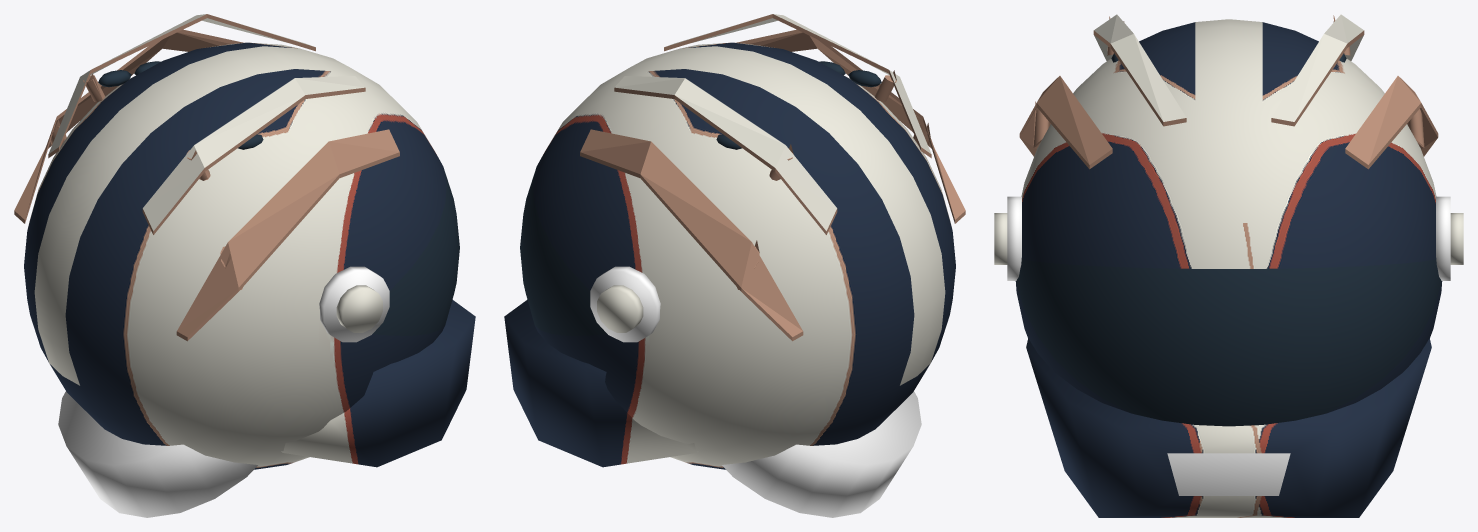
File: Helmet_25_SSR_赤銅・濃紺.glb
3 renders of one model, left to right at view 1: azimuth 30°, elevation 25°; view 2: azimuth 150°, elevation 25°; view 3: azimuth 270°, elevation 25°, orthographic. The views are drawn at different scales.
Parts seen in each view (by area): view 1: Helmet_25_SSR, Visor; view 2: Helmet_25_SSR, Visor; view 3: Helmet_25_SSR, Visor.
Part boxes in pixels (left/top/right/bottom): Helmet_25_SSR: left=14, top=14, right=475, bottom=517; Visor: left=98, top=61, right=459, bottom=335; Helmet_25_SSR: left=504, top=14, right=965, bottom=517; Visor: left=520, top=61, right=881, bottom=335; Helmet_25_SSR: left=994, top=14, right=1463, bottom=517; Visor: left=1016, top=53, right=1441, bottom=426.
Size of the model in its own units: 0.301 by 0.314 by 0.289.
Materials: 4 (4 with a texture image).
